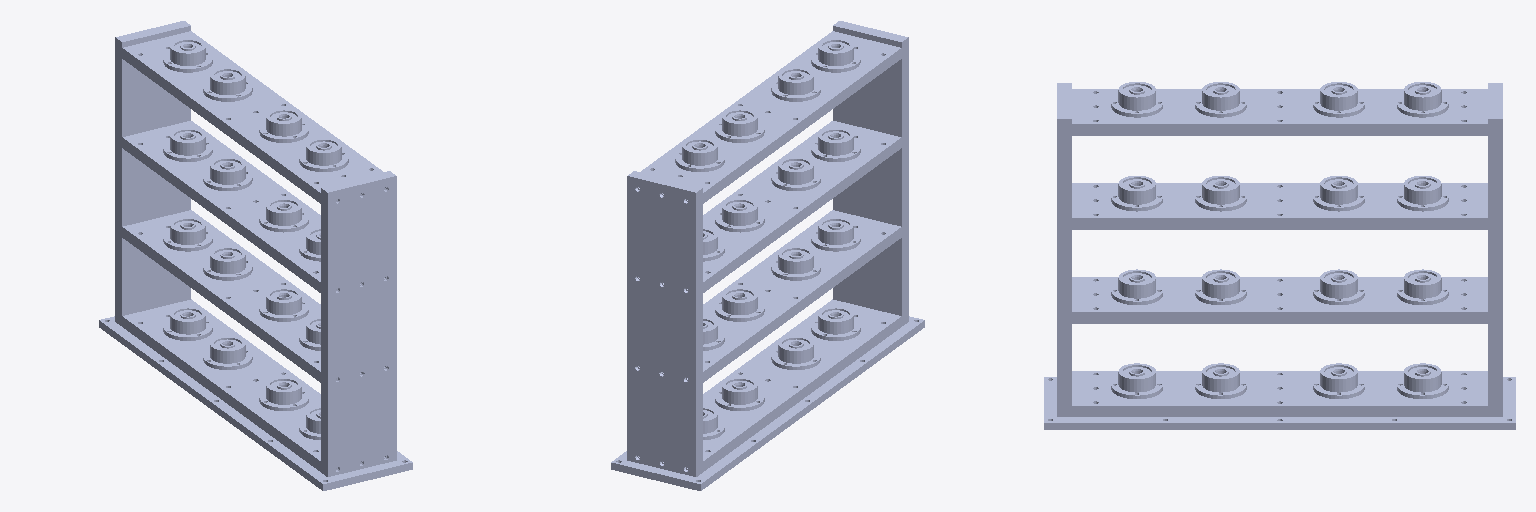
URDF robot description (rack):
<?xml version="1.0" encoding="utf-8"?>
<!-- This URDF was automatically created by SolidWorks to URDF Exporter! Originally created by [author] ([email redacted]) 
     Commit Version: 1.6.0-4-g7f85cfe  Build Version: 1.6.7995.38578
     For more information, please see http://wiki.ros.org/sw_urdf_exporter -->
<robot
  name="rack">
  <link
    name="rack_base_link">
    <inertial>
      <origin
        xyz="4.7184E-16 -9.7145E-17 0.3608"
        rpy="0 0 0" />
      <mass
        value="45.386" />
      <inertia
        ixx="3.0726"
        ixy="-1.7241E-17"
        ixz="-7.5898E-18"
        iyy="0.71908"
        iyz="2.3918E-17"
        izz="2.6571" />
    </inertial>
    <visual>
      <origin
        xyz="0 0 0"
        rpy="0 0 0" />
      <geometry>
        <mesh
          filename="package://rack/meshes/rack_base_link.STL" />
      </geometry>
      <material
        name="">
        <color
          rgba="0.79216 0.81961 0.93333 1" />
      </material>
    </visual>
    <collision>
      <origin
        xyz="0 0 0"
        rpy="0 0 0" />
      <geometry>
        <mesh
          filename="package://rack/meshes/rack_base_link.STL" />
      </geometry>
    </collision>
  </link>
</robot>

--- Facts derived from the render (not from the file) ---
Views: 3 orthographic renders of the robot side by side, from view 1: azimuth 30°, elevation 25°; view 2: azimuth 150°, elevation 25°; view 3: azimuth 270°, elevation 25°.
Model rack with 1 links and 0 joints (none), rooted at rack_base_link, posed all joints at 0.
Links seen in each view (by area): view 1: rack_base_link; view 2: rack_base_link; view 3: rack_base_link.
Boxes of the visible links, <box> form: rack_base_link: <box>99,21,412,490</box>; rack_base_link: <box>611,21,924,490</box>; rack_base_link: <box>1044,82,1515,429</box>.
Size in the robot's own frame: 0.26 by 1.12 by 0.8425 metres.
Meshes: 1 distinct files referenced, 1 mesh visuals loaded (1 binary STL).